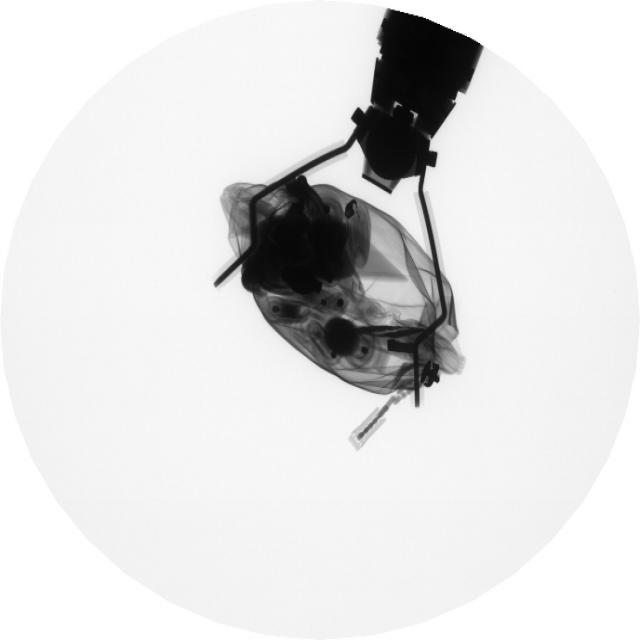GUN: (295, 182, 330, 219)
